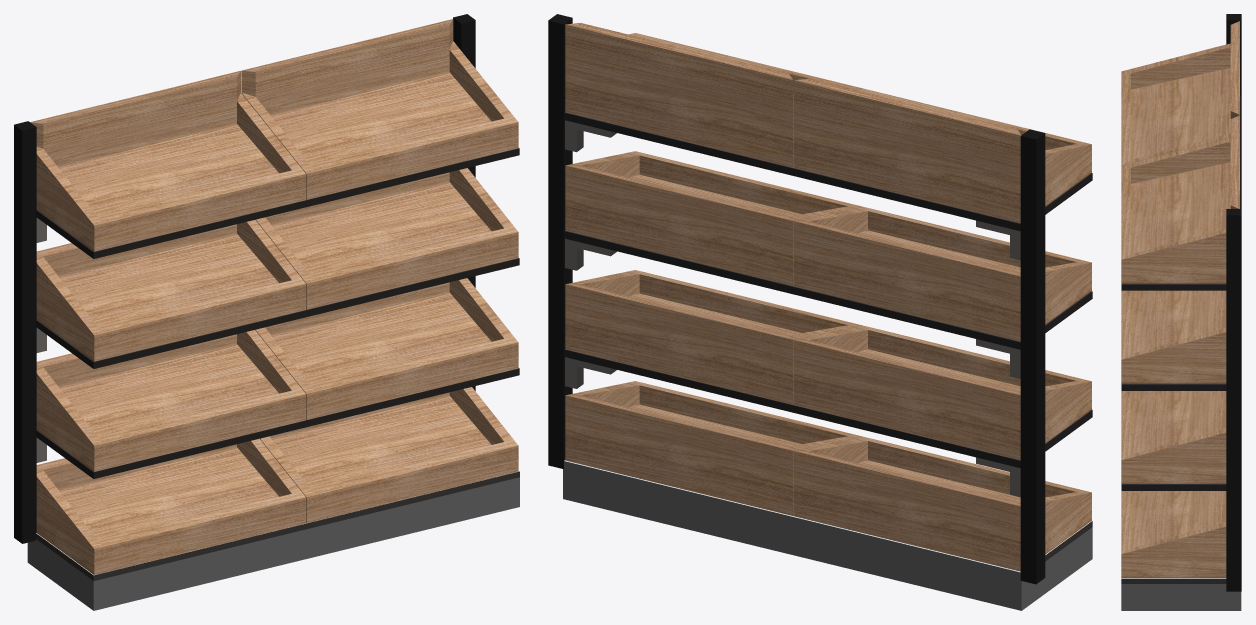
File: fruit shelf.fbx
The picture shows the model from 3 angles, left to right: view 1: azimuth 30°, elevation 25°; view 2: azimuth 150°, elevation 25°; view 3: azimuth 270°, elevation 25°; orthographic projection. The views are drawn at different scales.
Visible parts, largest first — view 1: Cube.054, Cube.053; view 2: Cube.054, Cube.053; view 3: Cube.054, Cube.053.
Boxes of the visible parts, <box> form: Cube.054: <box>30,19,518,574</box>; Cube.053: <box>14,14,519,610</box>; Cube.054: <box>565,23,1091,571</box>; Cube.053: <box>548,14,1092,610</box>; Cube.054: <box>1121,21,1239,577</box>; Cube.053: <box>1121,14,1241,610</box>.
Size of the model in its own units: 72.23 by 67.18 by 18.25.
Materials: 2 (2 with a texture image).
